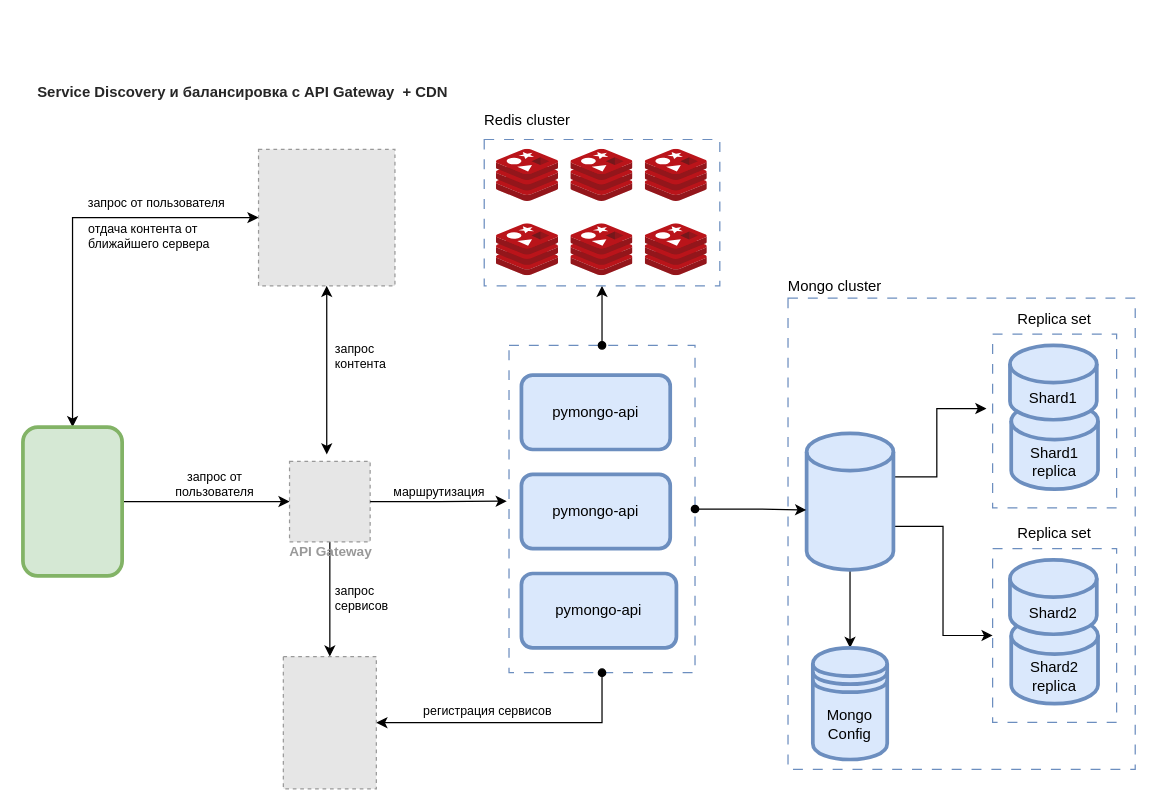
Some shapes in this 1157 by 811 pixel diagram are drawn without their labels. Grey dashed boxes stand in for pictures. Each missing label, with the box of its shape:
Frontend: (20, 425, 123, 577)
Mongo Router: (804, 431, 895, 571)
